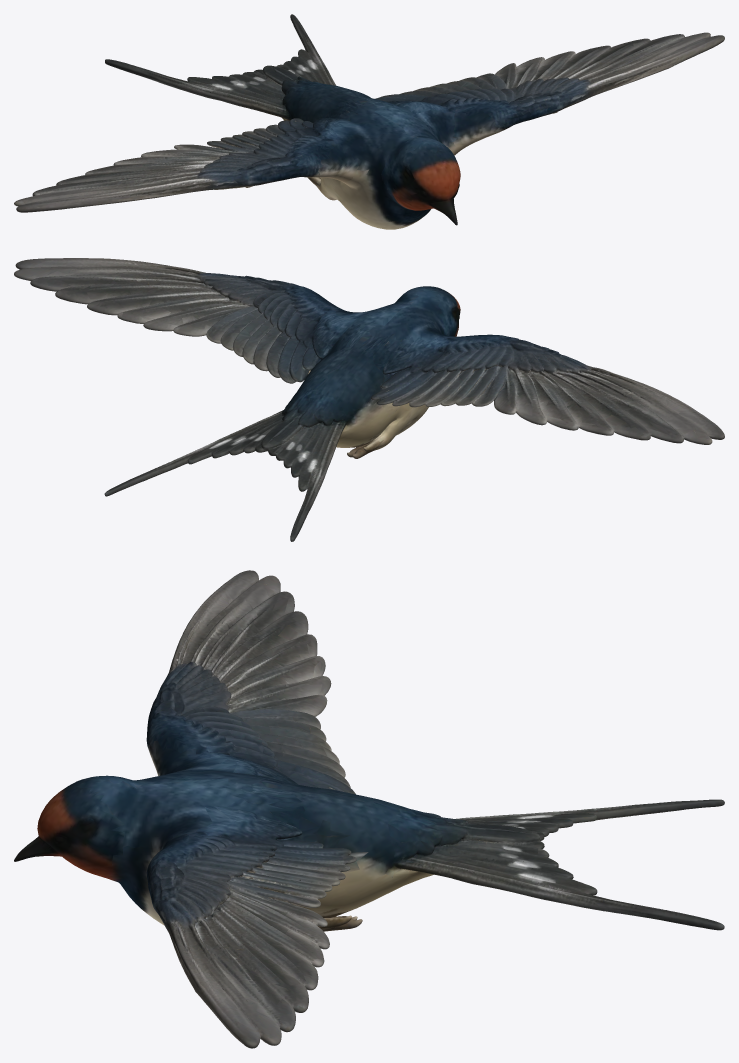
Rendered from Hirundo_rustica.glb.
The picture shows the model from 3 angles, top to bottom: view 1: azimuth 30°, elevation 25°; view 2: azimuth 150°, elevation 25°; view 3: azimuth 270°, elevation 25°; orthographic projection. The views are drawn at different scales.
Parts seen in each view (by area): view 1: orient; view 2: orient; view 3: orient.
Boxes of the visible parts, <box> form: orient: <box>14,14,724,229</box>; orient: <box>14,258,724,541</box>; orient: <box>14,570,724,1048</box>.
Size of the model in its own units: 0.5 by 0.0751 by 0.3171.
Materials: 1 (1 with a texture image).
